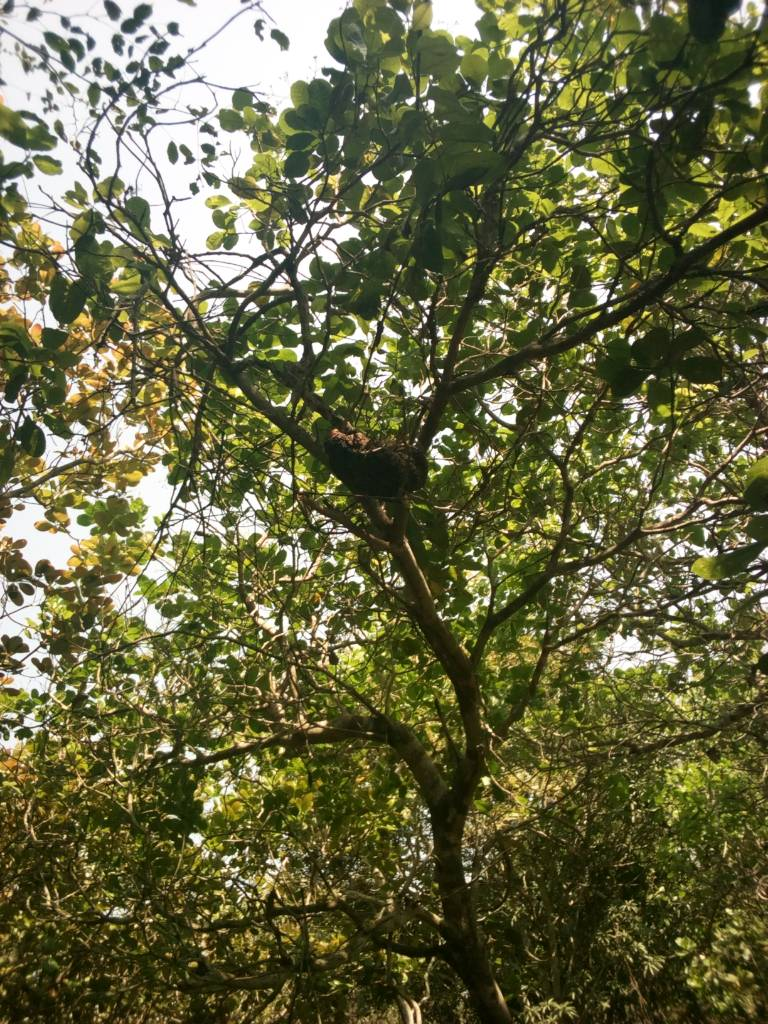Virose: (313, 427, 440, 509)
